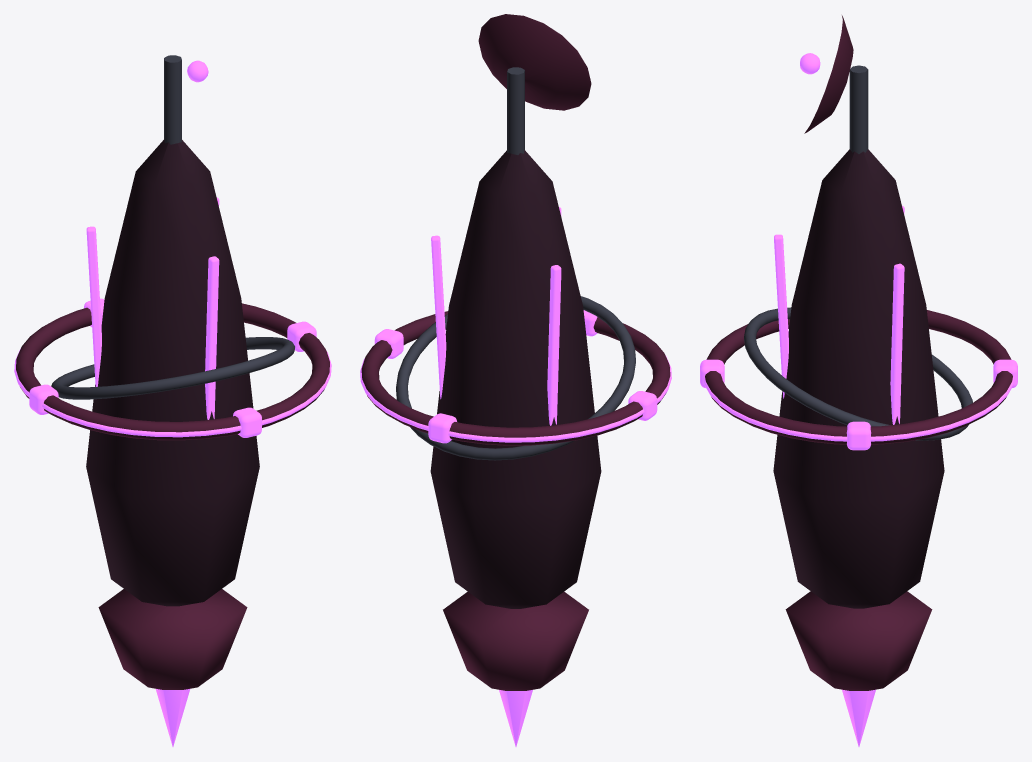
File: jammer.glb
3 views of the same model, side by side, from view 1: azimuth 30°, elevation 25°; view 2: azimuth 150°, elevation 25°; view 3: azimuth 270°, elevation 25° (orthographic).
Parts seen in each view (by area): view 1: root:hull, root:plate, rings:plate, root:glow, rings:alloy, rings:glow, dish:alloy; view 2: root:hull, root:plate, dish:plate, rings:plate, rings:alloy, root:glow, rings:glow, dish:alloy; view 3: root:hull, root:plate, rings:plate, root:glow, rings:alloy, rings:glow, dish:alloy, dish:plate.
Part boxes in pixels (left/top/right/bottom): root:hull: left=86, top=139, right=259, bottom=606; root:plate: left=98, top=589, right=247, bottom=689; rings:plate: left=16, top=303, right=329, bottom=440; root:glow: left=86, top=197, right=219, bottom=746; rings:alloy: left=51, top=337, right=294, bottom=399; rings:glow: left=14, top=298, right=331, bottom=437; dish:alloy: left=164, top=55, right=181, bottom=144; root:hull: left=430, top=150, right=601, bottom=608; root:plate: left=443, top=591, right=588, bottom=690; dish:plate: left=478, top=14, right=591, bottom=110; rings:plate: left=361, top=311, right=670, bottom=445; rings:alloy: left=396, top=296, right=635, bottom=460; root:glow: left=431, top=207, right=561, bottom=746; rings:glow: left=360, top=310, right=671, bottom=443; dish:alloy: left=507, top=67, right=524, bottom=154; root:hull: left=773, top=149, right=944, bottom=608; root:plate: left=785, top=591, right=932, bottom=690; rings:plate: left=705, top=310, right=1012, bottom=444; root:glow: left=774, top=205, right=904, bottom=746; rings:alloy: left=744, top=307, right=972, bottom=440; rings:glow: left=700, top=359, right=1017, bottom=450; dish:alloy: left=849, top=65, right=868, bottom=153; dish:plate: left=804, top=15, right=853, bottom=133.
Size of the model in its own units: 1.04 by 2.63 by 1.04.
